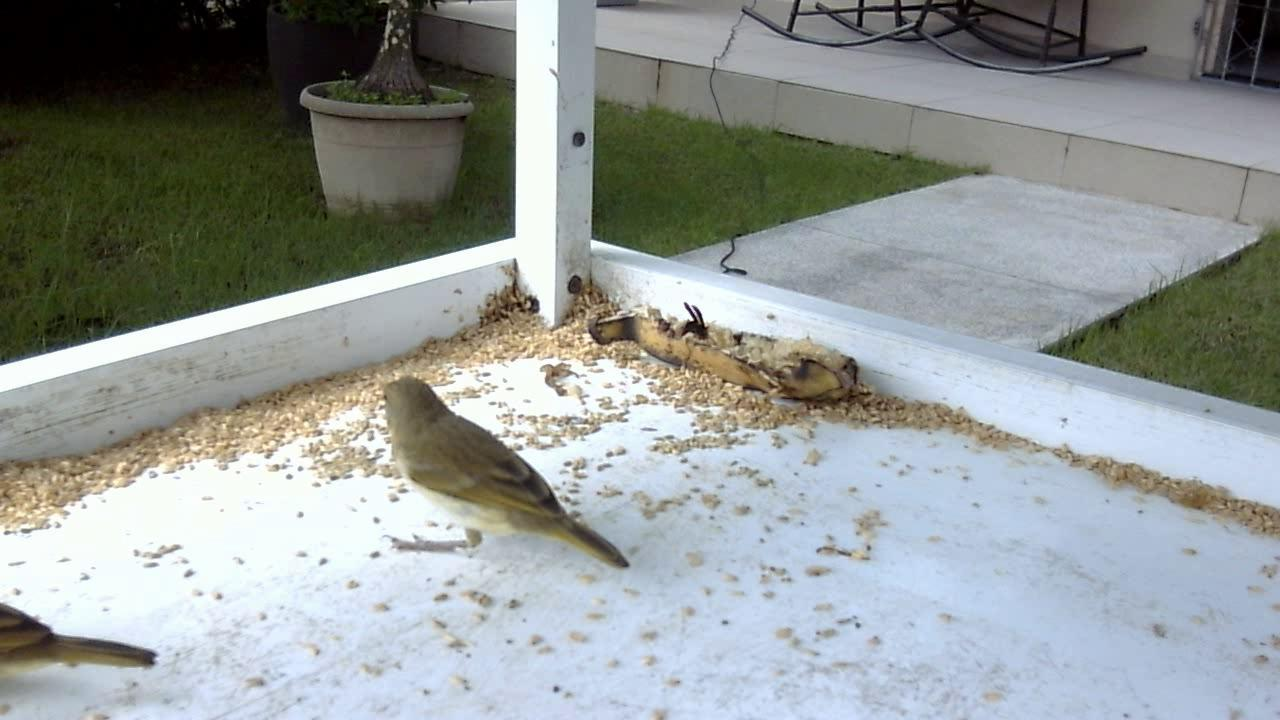canario_do_amazonas: (372, 370, 633, 578), (1, 595, 165, 710)
